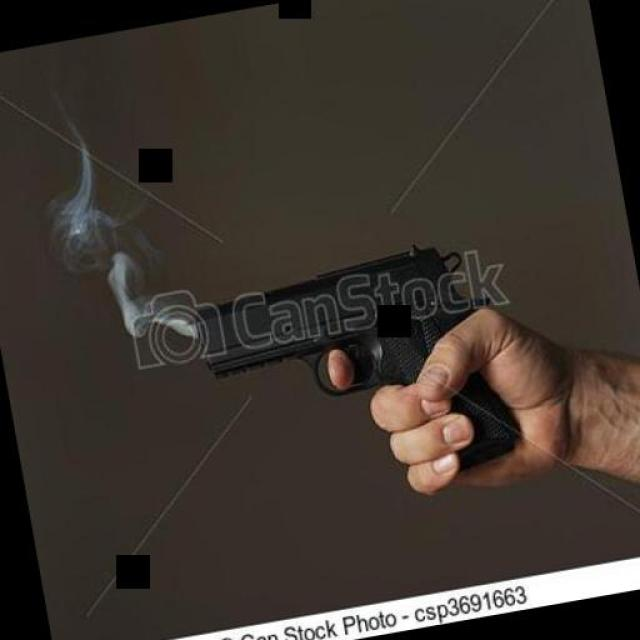gun: (180, 229, 529, 511)
